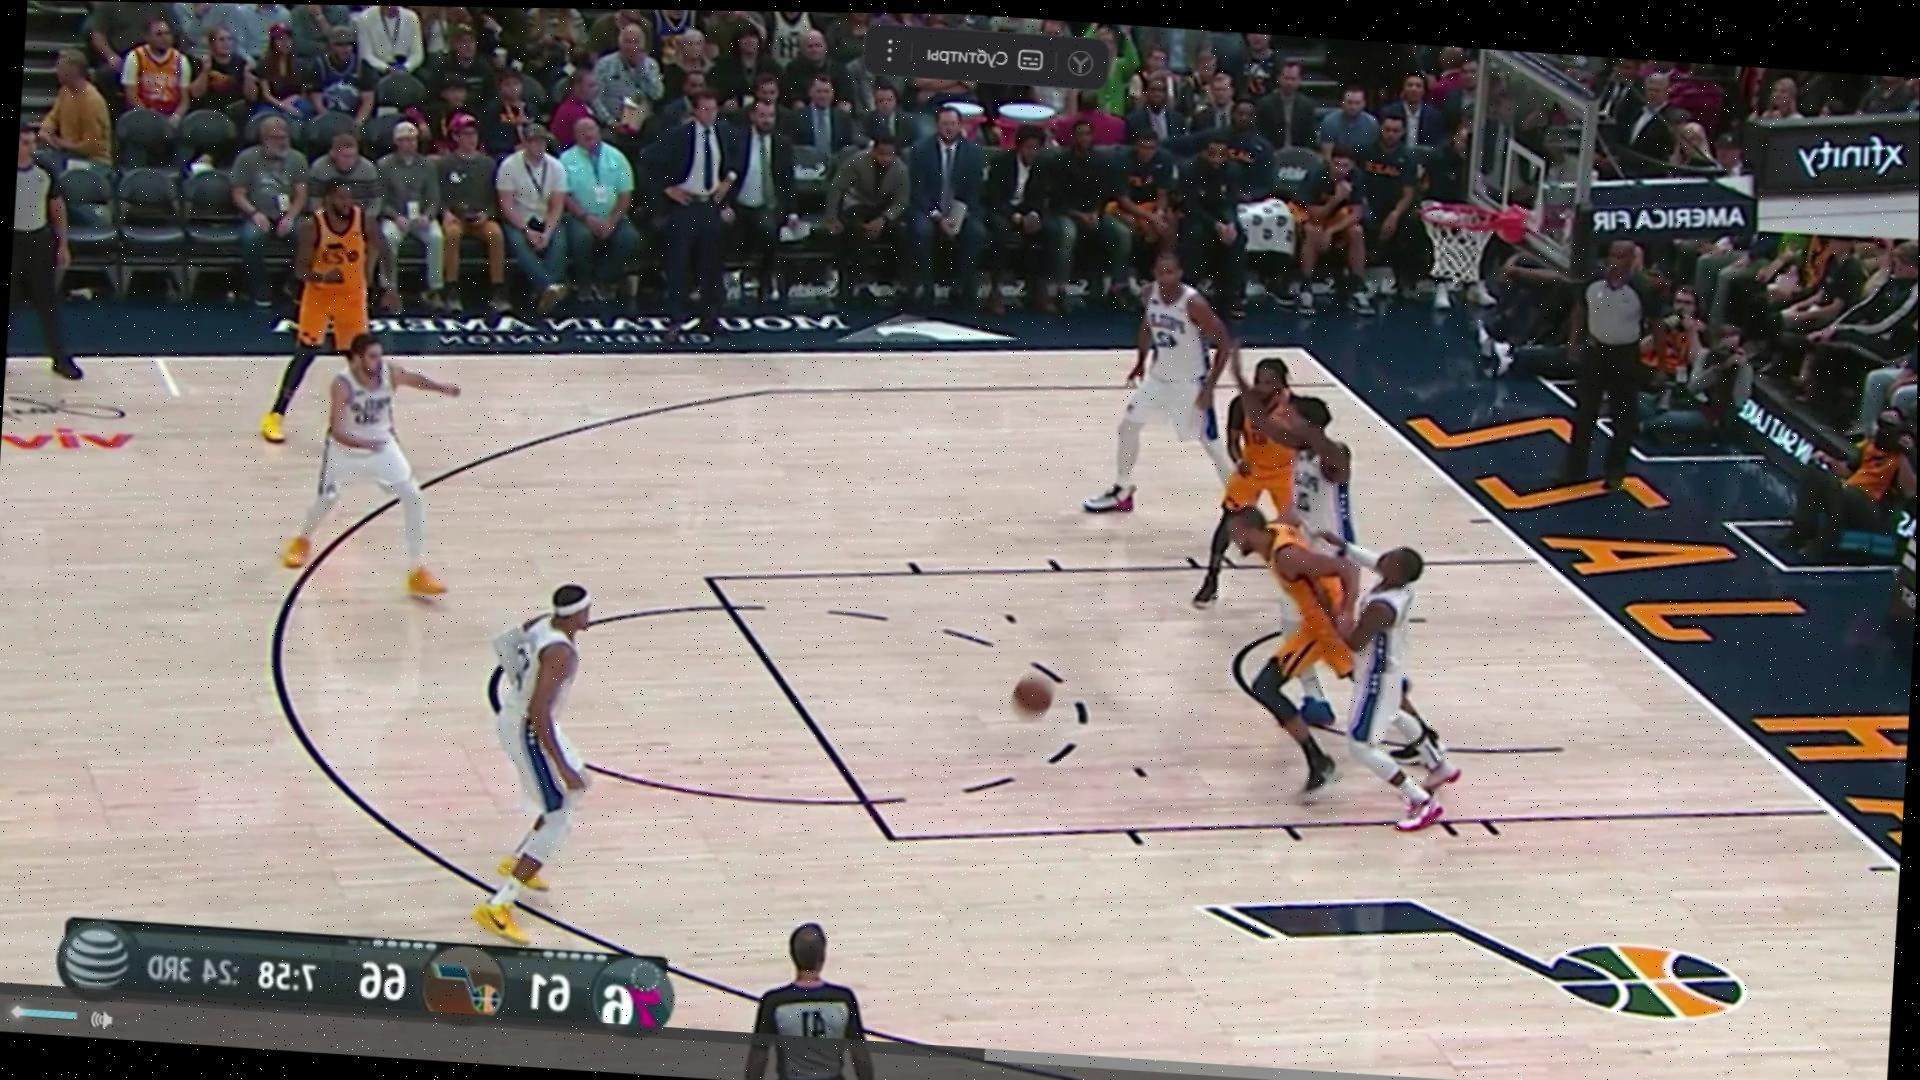foul: (1171, 502, 1468, 841)
